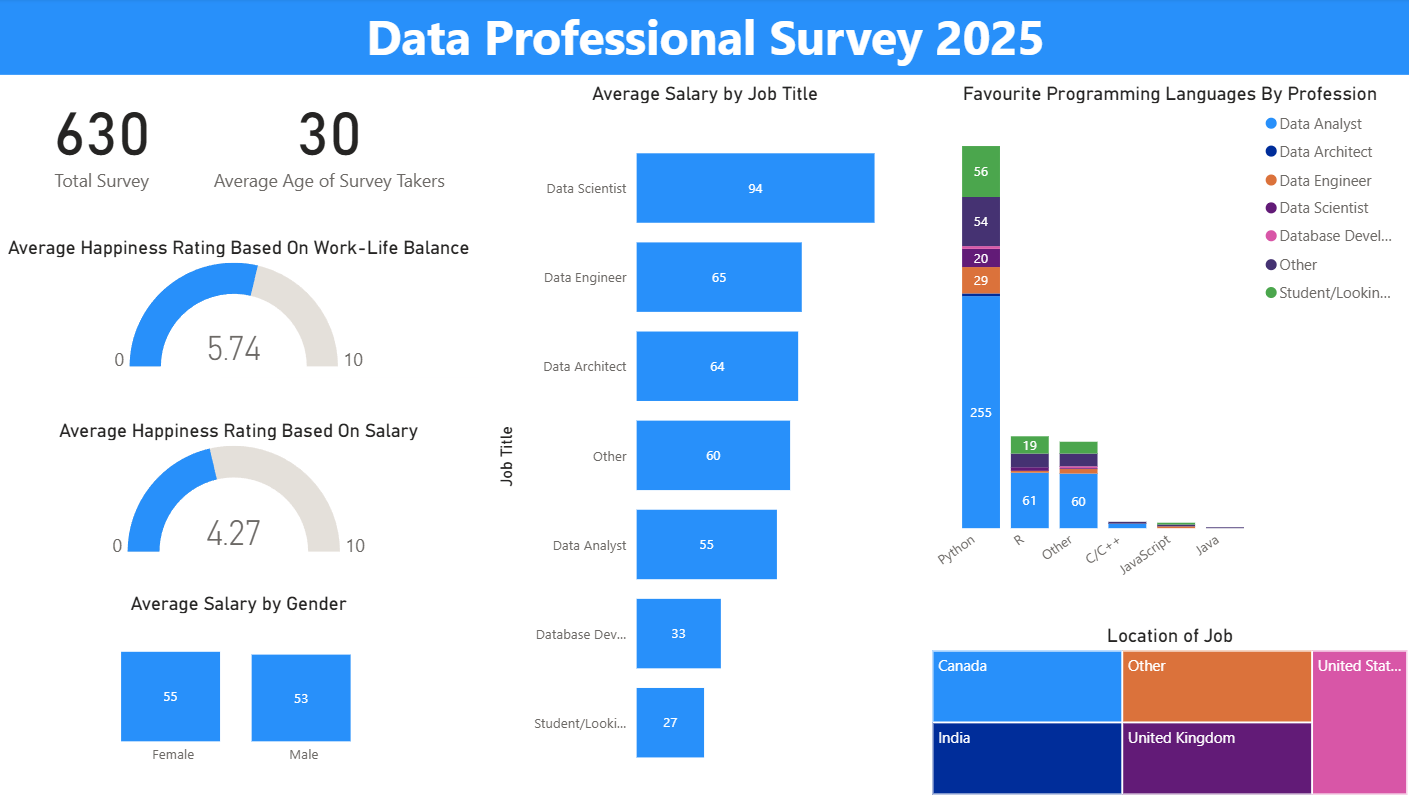

Layout of this report page (visuals, bound fields, positions):
{"tool":"powerbi","page":{"name":"Page 1","canvas":[1280,720],"ordinal":0},"visuals":[{"type":"textbox","box":[9.7,0,1270.3,69.1],"z":0},{"type":"card","fields":{"Values":["CountNonNull(Data Professional Survey.Unique ID)"]},"box":[9.9,69.1,186.7,112.2],"z":1000},{"type":"card","fields":{"Values":["Avg(Data Professional Survey.Q10 - Current Age)"]},"box":[196.6,69.1,221.7,112.2],"z":2000},{"type":"barChart","fields":{"Category":["Data Professional Survey.Q1 - Which Title Best Fits your Current Role?.1"],"Y":["Avg(Data Professional Survey.Average Salary)"]},"box":[453.4,75.4,382.4,644.6],"z":3000},{"type":"columnChart","title":"Favourite Programming Languages By Profession","fields":{"Category":["Data Professional Survey.Q5 - Favorite Programming Language.1"],"Y":["CountNonNull(Data Professional Survey.Unique ID)"],"Series":["Data Professional Survey.Q1 - Which Title Best Fits your Current Role?.1"]},"box":[843.9,75.4,436.3,465.9],"z":4000},{"type":"treemap","title":"Location of Job","fields":{"Group":["Data Professional Survey.Q11 - Which Country do you live in?.1"],"Values":["Count(Data Professional Survey.Q11 - Which Country do you live in?.1)"]},"box":[843.9,562,436.3,158],"z":5000},{"type":"gauge","title":"Average Happiness Rating Based On Work-Life Balance","fields":{"Y":["Avg(Data Professional Survey.Q6 - How Happy are you in your Current Position with the following? (Work/Life Balance))"],"MinValue":["Min(Data Professional Survey.Q6 - How Happy are you in your Current Position with the following? (Work/Life Balance))1"],"MaxValue":["Max(Data Professional Survey.Q6 - How Happy are you in your Current Position with the following? (Work/Life Balance))2"]},"box":[9.9,213.7,431.8,127.5],"z":6000},{"type":"gauge","title":"Average Happiness Rating Based On Salary","fields":{"Y":["Avg(Data Professional Survey.Q6 - How Happy are you in your Current Position with the following? (Salary))"],"MinValue":["Min(Data Professional Survey.Q6 - How Happy are you in your Current Position with the following? (Salary))"],"MaxValue":["Max(Data Professional Survey.Q6 - How Happy are you in your Current Position with the following? (Salary))"]},"box":[9.9,378,431.8,129.3],"z":7000},{"type":"columnChart","title":"Average Salary by Gender","fields":{"Category":["Data Professional Survey.Q9 - Male/Female?"],"Y":["Avg(Data Professional Survey.Average Salary)"]},"box":[9.9,533.3,431.8,164.3],"z":8000}]}

Visuals, with their boxes in screenshot pixels (x1, y1, x2, y2), scaled from the page's 1280x720 canvas onto the 1409x797 screenshot:
textbox: x1=11, y1=0, x2=1408, y2=76
card - CountNonNull(Data Professional Survey.Unique ID): x1=11, y1=76, x2=216, y2=201
card - Avg(Data Professional Survey.Q10 - Current Age): x1=216, y1=76, x2=460, y2=201
barChart - Data Professional Survey.Q1 - Which Title Best Fits your Current Role?.1 x Avg(Data Professional Survey.Average Salary): x1=499, y1=83, x2=920, y2=796
"Favourite Programming Languages By Profession" columnChart: x1=929, y1=83, x2=1408, y2=599
"Location of Job" treemap: x1=929, y1=622, x2=1408, y2=796
"Average Happiness Rating Based On Work-Life Balance" gauge: x1=11, y1=237, x2=486, y2=378
"Average Happiness Rating Based On Salary" gauge: x1=11, y1=418, x2=486, y2=562
"Average Salary by Gender" columnChart: x1=11, y1=590, x2=486, y2=772
